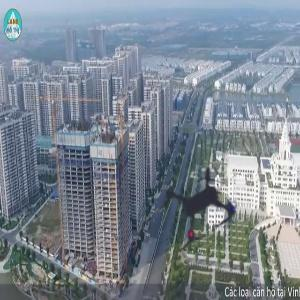drone: (111, 117, 284, 290)
